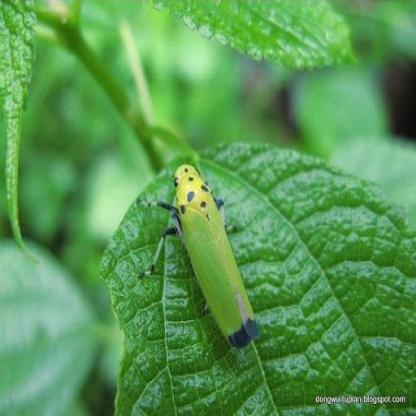Green-Leafhopper: (152, 162, 265, 350)
